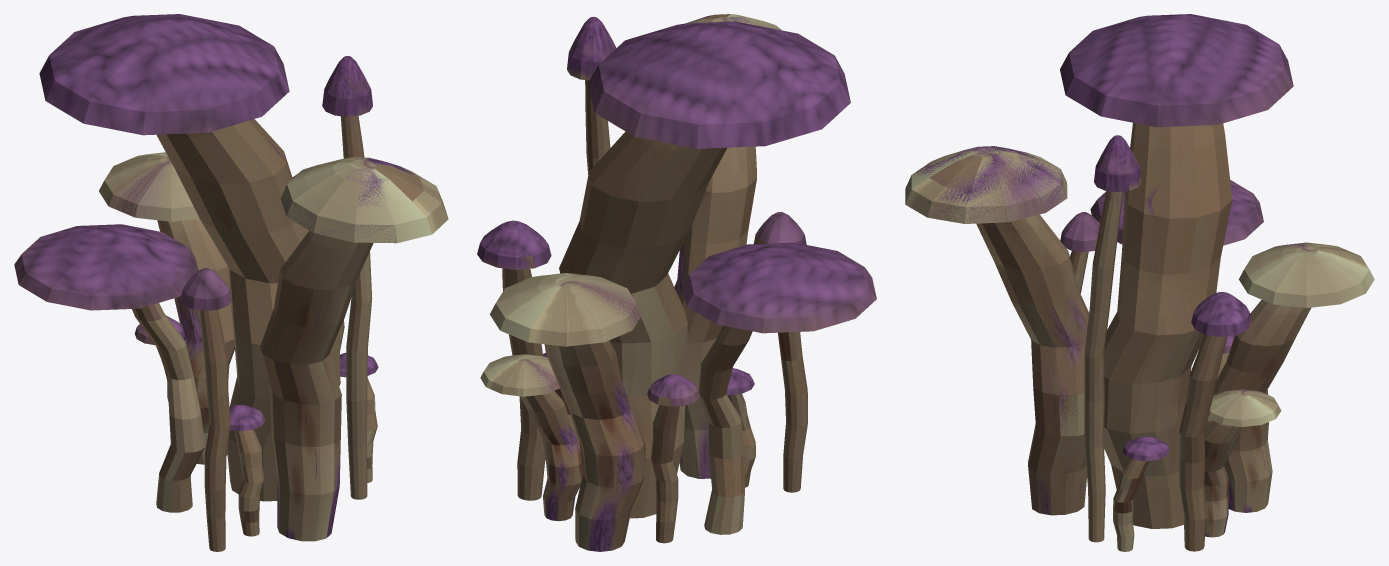
File: manitaria#2.fbx
3 views of the same model, side by side, from view 1: azimuth 30°, elevation 25°; view 2: azimuth 150°, elevation 25°; view 3: azimuth 270°, elevation 25° (orthographic). The views are drawn at different scales.
Parts seen in each view (by area): view 1: Cylinder.009; view 2: Cylinder.009; view 3: Cylinder.009.
Boxes of the visible parts, box(x1,y1,x2,y2) form: Cylinder.009: box(14, 14, 448, 551); Cylinder.009: box(477, 14, 876, 551); Cylinder.009: box(905, 14, 1374, 551).
Size of the model in its own units: 33.45 by 44.52 by 42.74.
Materials: 1 (1 with a texture image).
